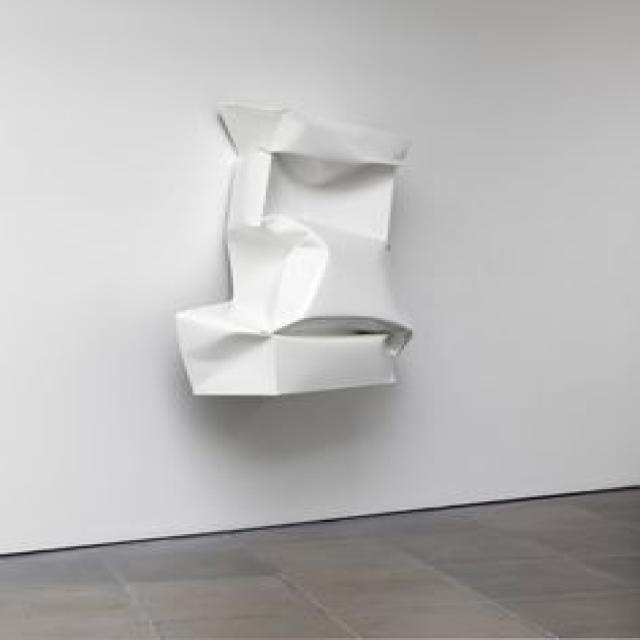Paper: (176, 104, 412, 399)
